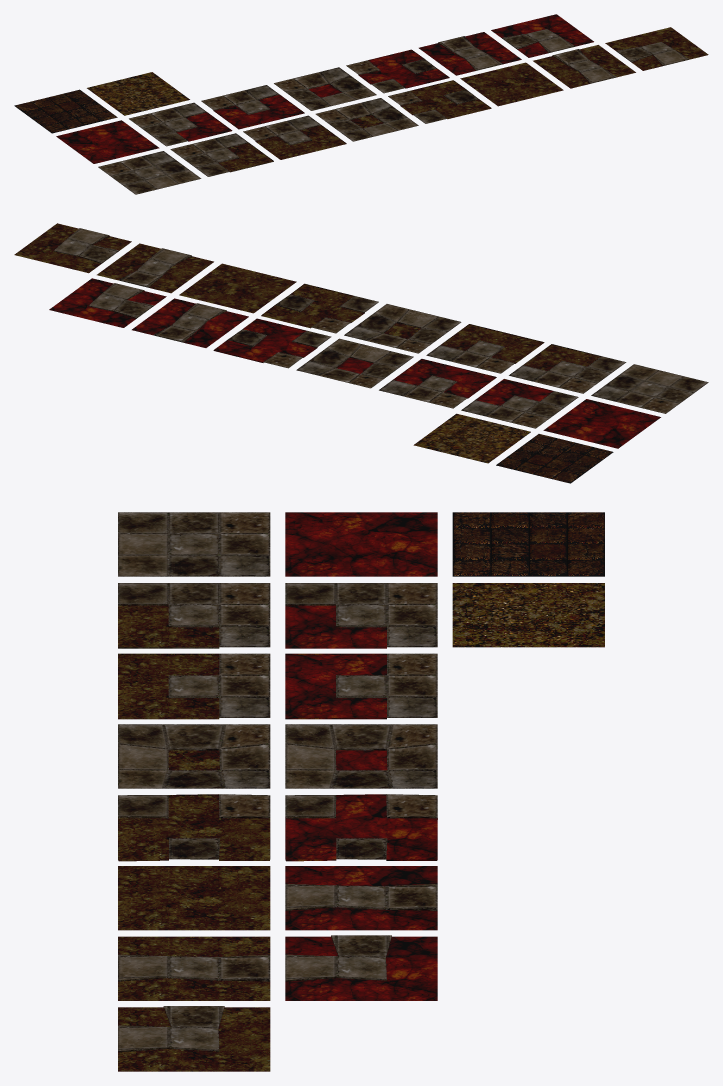
File: ground-tilesheet.glb
The picture shows the model from 3 angles, top to bottom: view 1: azimuth 30°, elevation 25°; view 2: azimuth 150°, elevation 25°; view 3: azimuth 270°, elevation 25°; orthographic projection. The views are drawn at different scales.
Parts seen in each view (by area): view 1: ground-stone-mud-edge-col, ground-stoneflesh-edge-col, ground-stone-mud-destroyed-col, ground-stoneflesh-destroyed-col, ground-stoneflesh-corner-col, ground-stone-mud-corner-col, ground-flesh-path-col, ground-mud-path-col, ground-mud-col, ground-flesh-col, ground-stone-col, ground-tile-col (+5 smaller); view 2: ground-stoneflesh-destroyed-col, ground-stone-mud-destroyed-col, ground-mud-path-col, ground-flesh-path-corner-col, ground-mud-path-corner-col, ground-stone-mud-edge-col, ground-flesh-path-col, ground-stoneflesh-edge-col, ground-mud-col, ground-stoneflesh-corner-col, ground-tile-col, ground-concrete-rough-col (+5 smaller); view 3: ground-stoneflesh-edge-col, ground-stone-mud-edge-col, ground-stoneflesh-destroyed-col, ground-stone-mud-destroyed-col, ground-stoneflesh-corner-col, ground-stone-mud-corner-col, ground-mud-path-corner-col, ground-flesh-path-corner-col, ground-stone-col, ground-stone-mud-hole-col, ground-flesh-col, ground-tile-col (+5 smaller).
Boxes of the visible parts, bbox=[...] form: ground-stone-mud-edge-col: bbox=[243, 115, 346, 159]; ground-stoneflesh-edge-col: bbox=[201, 85, 304, 129]; ground-stone-mud-destroyed-col: bbox=[388, 80, 491, 123]; ground-stoneflesh-destroyed-col: bbox=[346, 49, 449, 93]; ground-stoneflesh-corner-col: bbox=[129, 102, 232, 146]; ground-stone-mud-corner-col: bbox=[170, 133, 273, 176]; ground-flesh-path-col: bbox=[419, 32, 521, 75]; ground-mud-path-col: bbox=[533, 45, 635, 88]; ground-mud-col: bbox=[460, 62, 563, 106]; ground-flesh-col: bbox=[56, 120, 159, 163]; ground-stone-col: bbox=[98, 151, 201, 194]; ground-tile-col: bbox=[14, 89, 117, 133]; ground-stoneflesh-destroyed-col: bbox=[213, 318, 331, 368]; ground-stone-mud-destroyed-col: bbox=[261, 283, 378, 333]; ground-mud-path-col: bbox=[97, 243, 213, 293]; ground-flesh-path-corner-col: bbox=[49, 278, 166, 327]; ground-mud-path-corner-col: bbox=[14, 223, 131, 273]; ground-stone-mud-edge-col: bbox=[426, 324, 544, 373]; ground-flesh-path-col: bbox=[132, 298, 248, 347]; ground-stoneflesh-edge-col: bbox=[379, 359, 496, 408]; ground-mud-col: bbox=[179, 263, 296, 313]; ground-stoneflesh-corner-col: bbox=[461, 379, 578, 428]; ground-tile-col: bbox=[496, 434, 613, 483]; ground-concrete-rough-col: bbox=[413, 413, 530, 463]; ground-stoneflesh-edge-col: bbox=[285, 653, 437, 719]; ground-stone-mud-edge-col: bbox=[118, 653, 270, 719]; ground-stoneflesh-destroyed-col: bbox=[285, 794, 437, 861]; ground-stone-mud-destroyed-col: bbox=[118, 794, 270, 861]; ground-stoneflesh-corner-col: bbox=[285, 583, 437, 648]; ground-stone-mud-corner-col: bbox=[118, 583, 270, 648]; ground-mud-path-corner-col: bbox=[118, 1006, 270, 1071]; ground-flesh-path-corner-col: bbox=[285, 935, 437, 1000]; ground-stone-col: bbox=[118, 512, 270, 576]; ground-stone-mud-hole-col: bbox=[118, 724, 270, 788]; ground-flesh-col: bbox=[285, 512, 437, 576]; ground-tile-col: bbox=[452, 512, 604, 576].
Bounding box in the file's own units: 87 × 0.5693 × 32.
5 materials, 5 textured.
